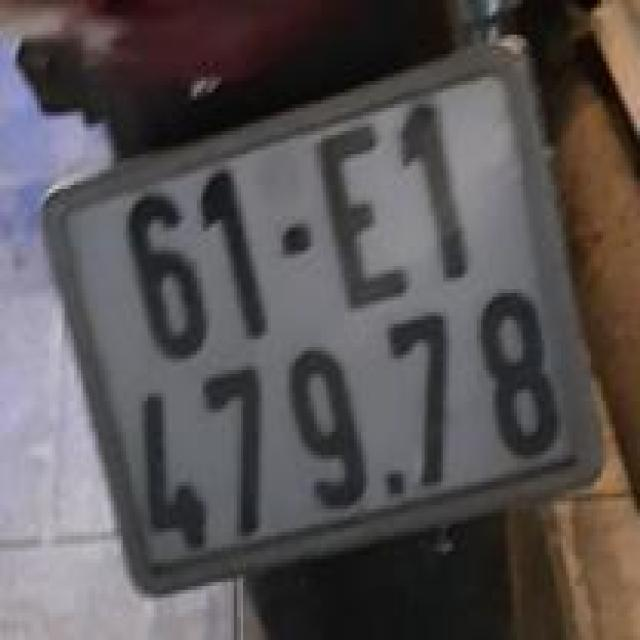1: (384, 83, 497, 301), (187, 151, 292, 352)
4: (122, 378, 220, 565)
6: (113, 173, 226, 378)
7: (376, 299, 473, 498), (194, 354, 289, 549)
8: (468, 272, 579, 470)
9: (279, 330, 383, 523)
E: (302, 110, 424, 325)
